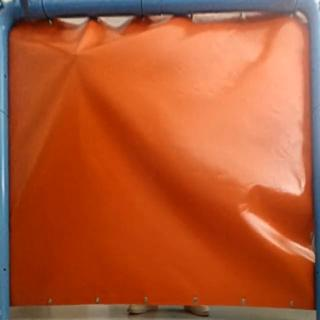Hit-hRxx: (68, 47, 85, 62)
